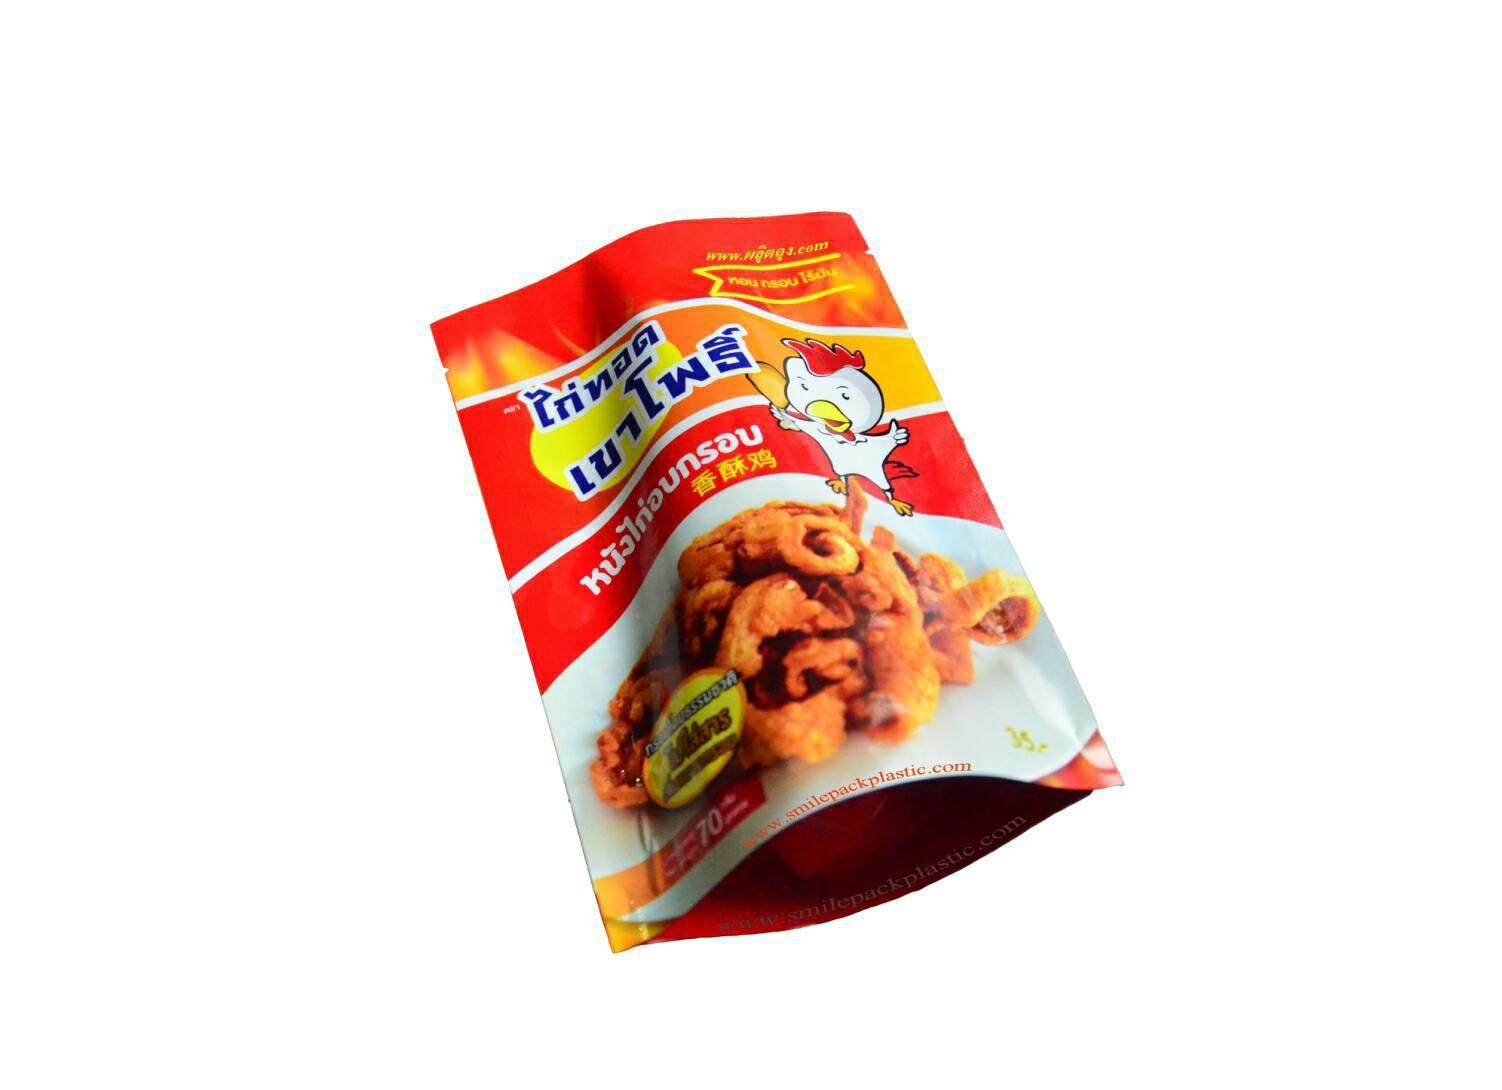plastic: (428, 209, 1123, 962)
